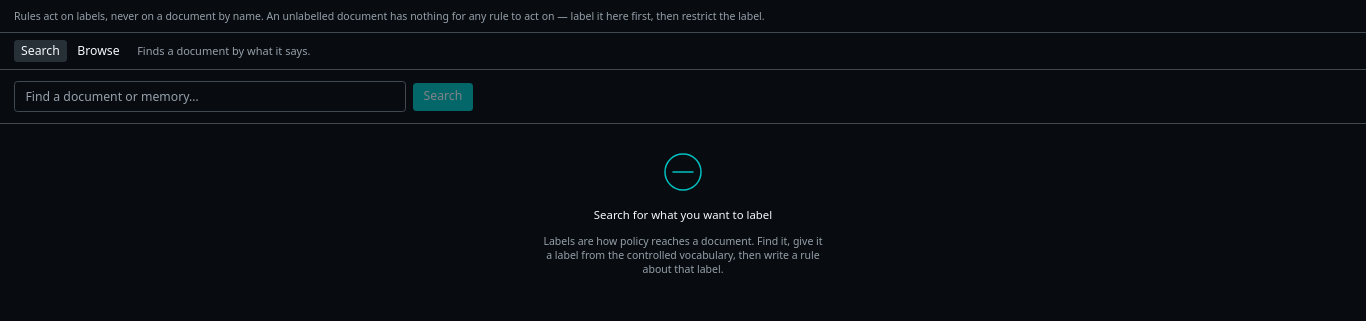
LabelsPane — browsing documents › lists unlabelled documents by default and reports the whole matching set
This screenshot has width=1366, height=321.
Click the tab "browse" at (98, 51), box [70,40,127,62]
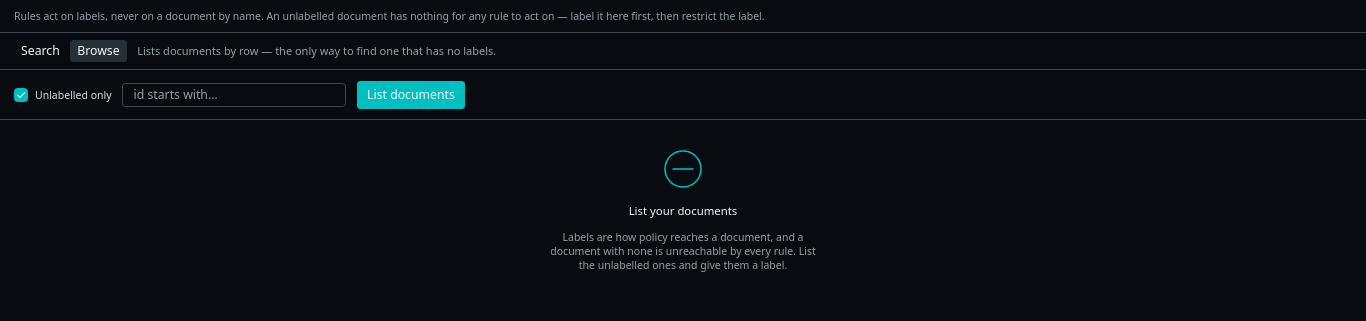
Click the button "List documents" at (411, 95), box [357,81,465,109]
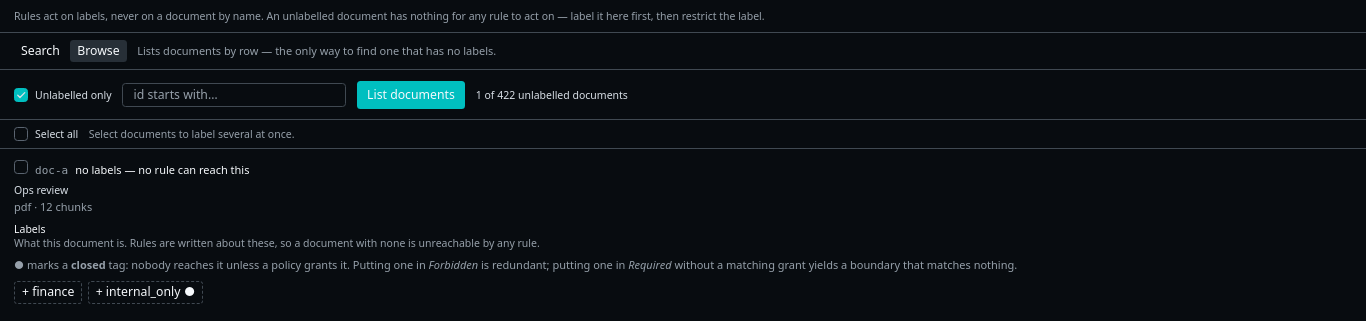
Now the text "Ops review" is shown, box [14,183,68,197]
Now the text "1 of 422 unlabelled documents" is shown, box [476,88,628,102]
Now the text "no labels — no rule can reach this" is shown, box [75,162,250,178]
